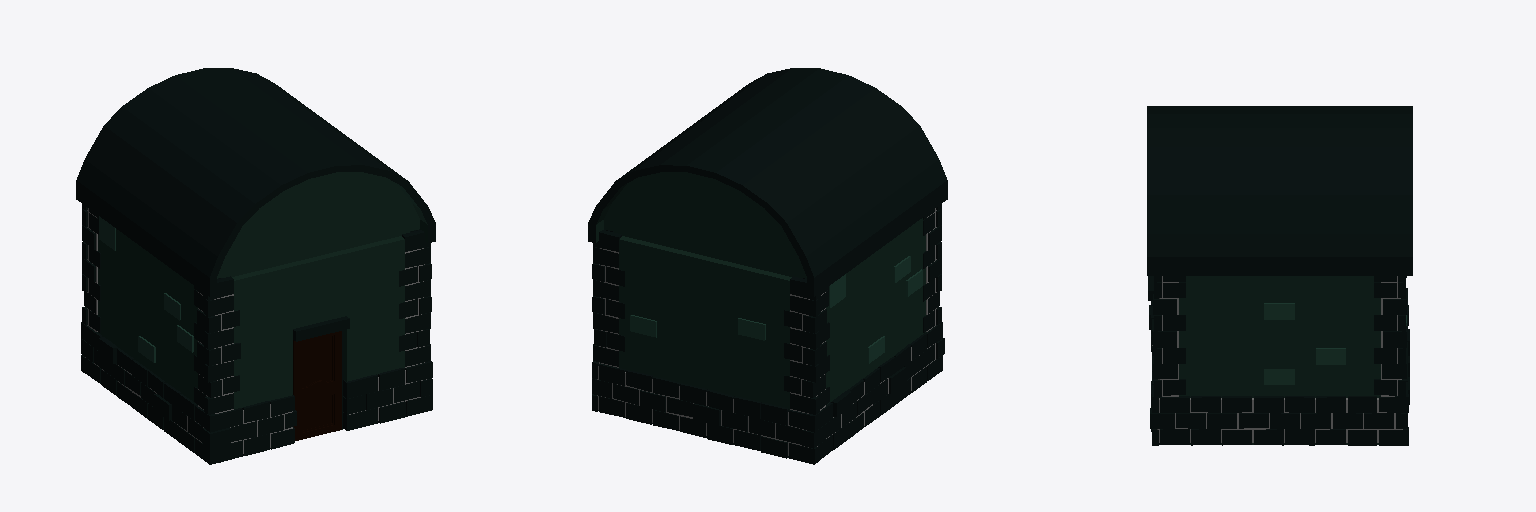
The model's file is 1Story_RoundRoof_Mat.obj.
3 renders of one model, left to right at view 1: azimuth 30°, elevation 25°; view 2: azimuth 150°, elevation 25°; view 3: azimuth 270°, elevation 25°, orthographic.
Visible parts, largest first — view 1: 1Story_RoundRoof_Mat_Cube.008; view 2: 1Story_RoundRoof_Mat_Cube.008; view 3: 1Story_RoundRoof_Mat_Cube.008.
Boxes of the visible parts, box(x1,y1,x2,y2) form: 1Story_RoundRoof_Mat_Cube.008: box(76, 68, 435, 464); 1Story_RoundRoof_Mat_Cube.008: box(588, 68, 947, 464); 1Story_RoundRoof_Mat_Cube.008: box(1147, 106, 1412, 445).
Bounding box in the file's own units: 2.09 × 2.38 × 2.13.